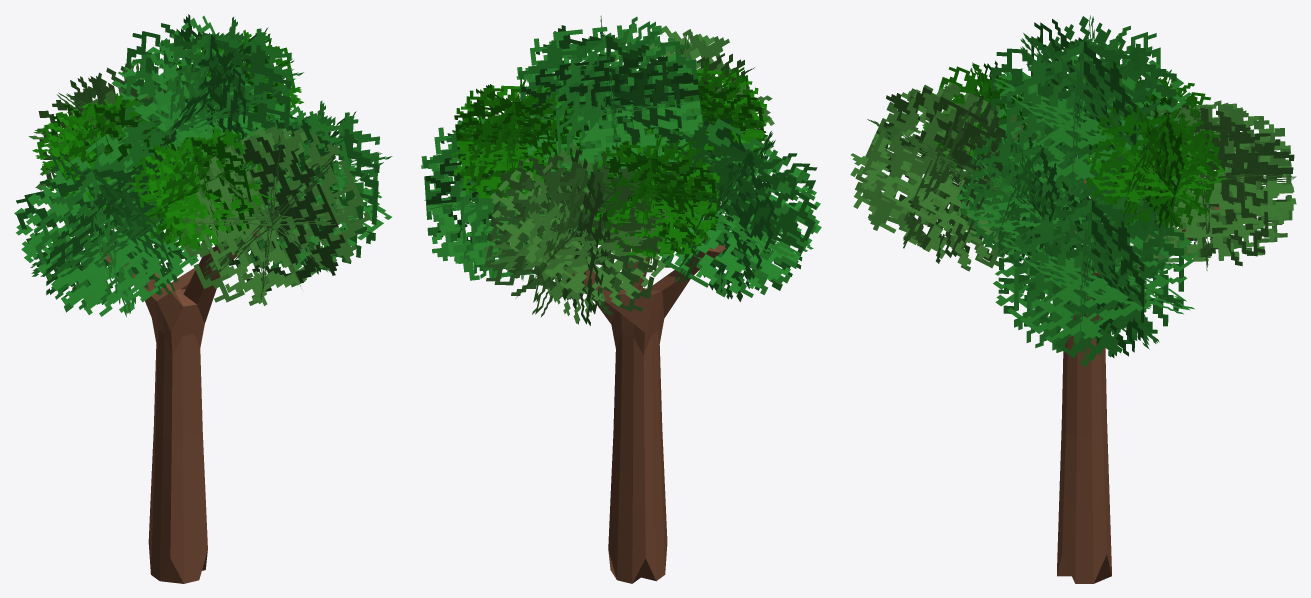
The model's file is tree.fbx.
3 views of the same model, side by side, from view 1: azimuth 30°, elevation 25°; view 2: azimuth 150°, elevation 25°; view 3: azimuth 270°, elevation 25° (orthographic). The views are drawn at different scales.
Visible parts, largest first — view 1: Tree; view 2: Tree; view 3: Tree.
Part boxes in pixels (left/top/right/bottom): Tree: left=14, top=14, right=392, bottom=583; Tree: left=421, top=15, right=821, bottom=583; Tree: left=850, top=15, right=1296, bottom=583.
Bounding box in the file's own units: 484 × 664 × 488.
